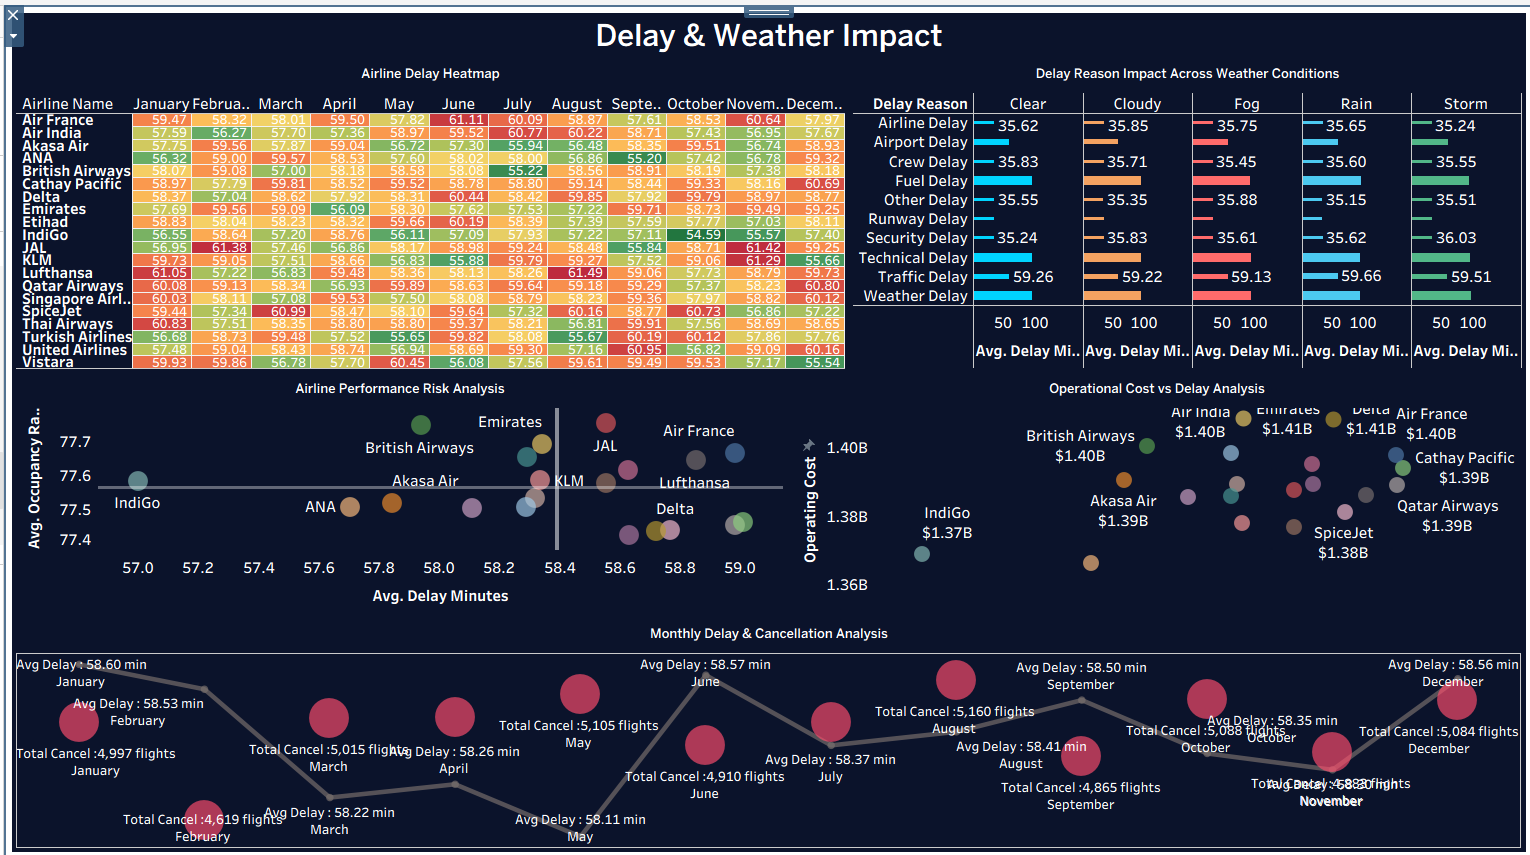

Layout of this report page (visuals, bound fields, positions):
{"tool":"tableau","page":{"name":"Delay & Weather Impact","canvas":[1530,855],"ordinal":3},"visuals":[{"type":"title","box":[8,8,1514,45]},{"type":"dashboard-object","box":[31,13,106,39]},{"type":"worksheet","title":"Airline Delay Heatmap","mark":"Square","rows":["airline_name"],"cols":["month_name"],"box":[8,53,837.1,315]},{"type":"worksheet","title":"Delay Reason Impact Across Weather Conditions","mark":"Bar","rows":["delay_reason"],"cols":["weather_type","delay_minutes"],"box":[845.1,53,676.9,315]},{"type":"worksheet","title":"Airline Performance Risk Analysis","mark":"Circle","rows":["occupancy_rate"],"cols":["delay_minutes"],"box":[8,368,776.1,245]},{"type":"worksheet","title":"Operational Cost vs Delay Analysis","mark":"Circle","rows":["operating_cost"],"cols":["delay_minutes"],"box":[784.1,368,737.9,245]},{"type":"worksheet","title":"Monthly Delay & Cancellation Analysis","mark":"Automatic","rows":["delay_minutes","is_cancelled"],"cols":["month_name"],"box":[8,613,1514,234]}]}

Visuals, with their boxes on the page's 1530x855 design canvas (x1, y1, x2, y2). These are canvas units, not pixel positions in the 1530x855 screenshot, which may show the page scaled, cropped or inside an application window:
title: pyautogui.locateOnScreen(8, 8, 1522, 53)
dashboard-object: pyautogui.locateOnScreen(31, 13, 137, 52)
"Airline Delay Heatmap" worksheet (Square marks): pyautogui.locateOnScreen(8, 53, 845, 368)
"Delay Reason Impact Across Weather Conditions" worksheet (Bar marks): pyautogui.locateOnScreen(845, 53, 1522, 368)
"Airline Performance Risk Analysis" worksheet (Circle marks): pyautogui.locateOnScreen(8, 368, 784, 613)
"Operational Cost vs Delay Analysis" worksheet (Circle marks): pyautogui.locateOnScreen(784, 368, 1522, 613)
"Monthly Delay & Cancellation Analysis" worksheet: pyautogui.locateOnScreen(8, 613, 1522, 847)
